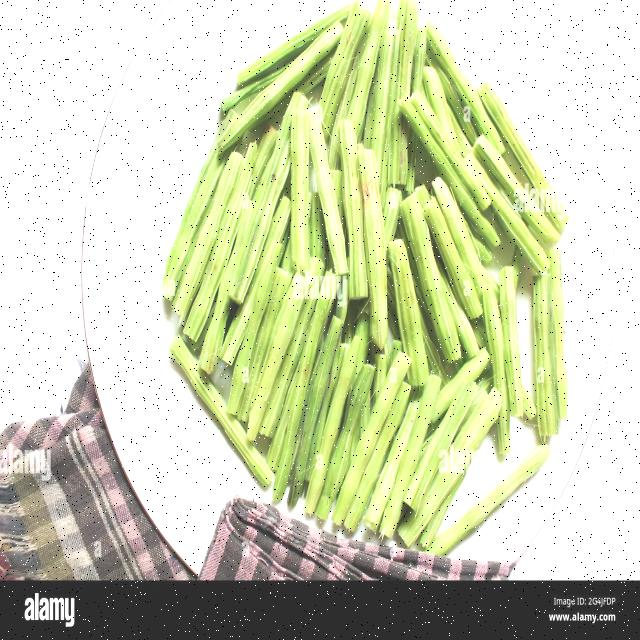Moringa Drumsticks: (177, 85, 559, 474)
